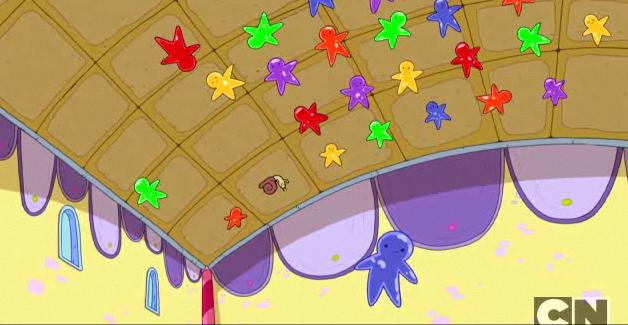snail: (257, 174, 291, 196)
